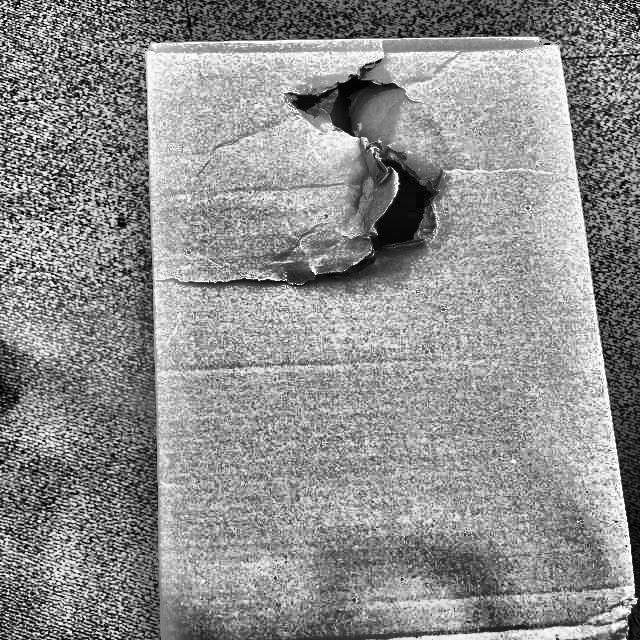box: (142, 34, 639, 639)
hole: (278, 65, 452, 258)
